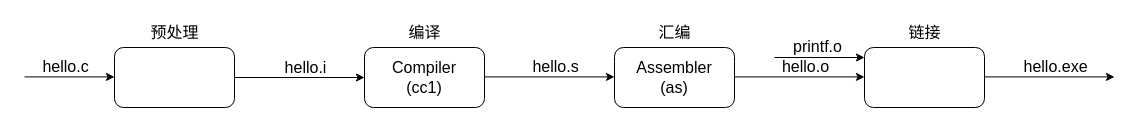
Image size: 1140x125. Some labels were removed from this diagram. The shapes that lost their labels are listed below. From the top down, each one's centre as x and y in pixels, then its label:
At point 174,77: "Pre-processor (cpp)".
At point 924,77: "Linker (ld)".
